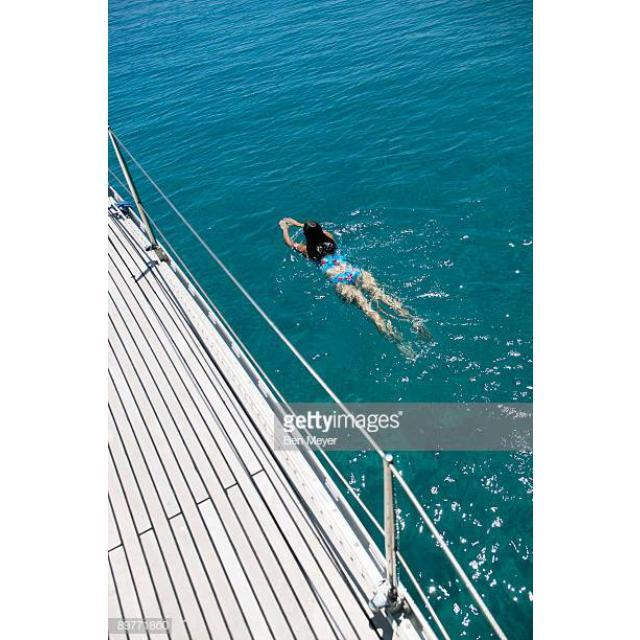human: (279, 212, 427, 351)
